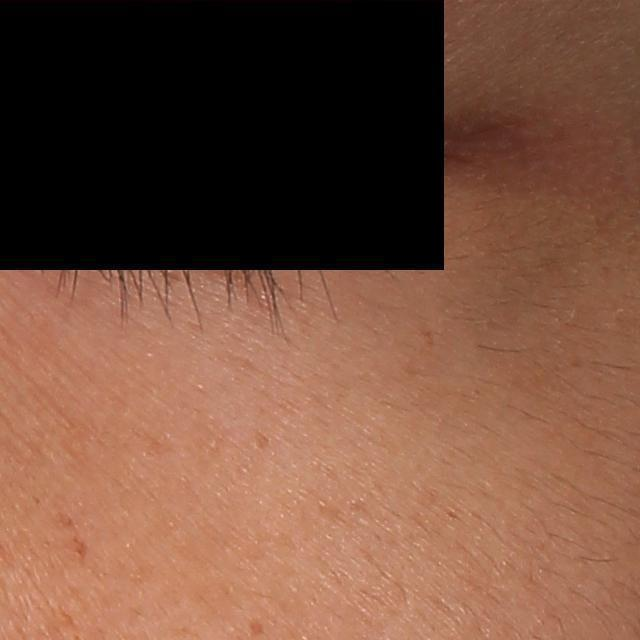melasma: (53, 506, 92, 562), (251, 428, 272, 451)
